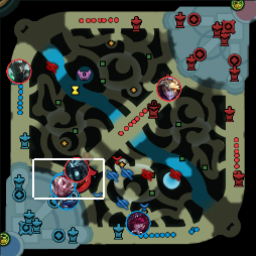ezreal: (156, 75, 180, 101)
fizz: (54, 186, 76, 210)
karthus: (65, 157, 86, 179)
mordekaiser: (6, 58, 30, 85)
rakan: (50, 173, 73, 196)
xayah: (126, 211, 150, 235)
